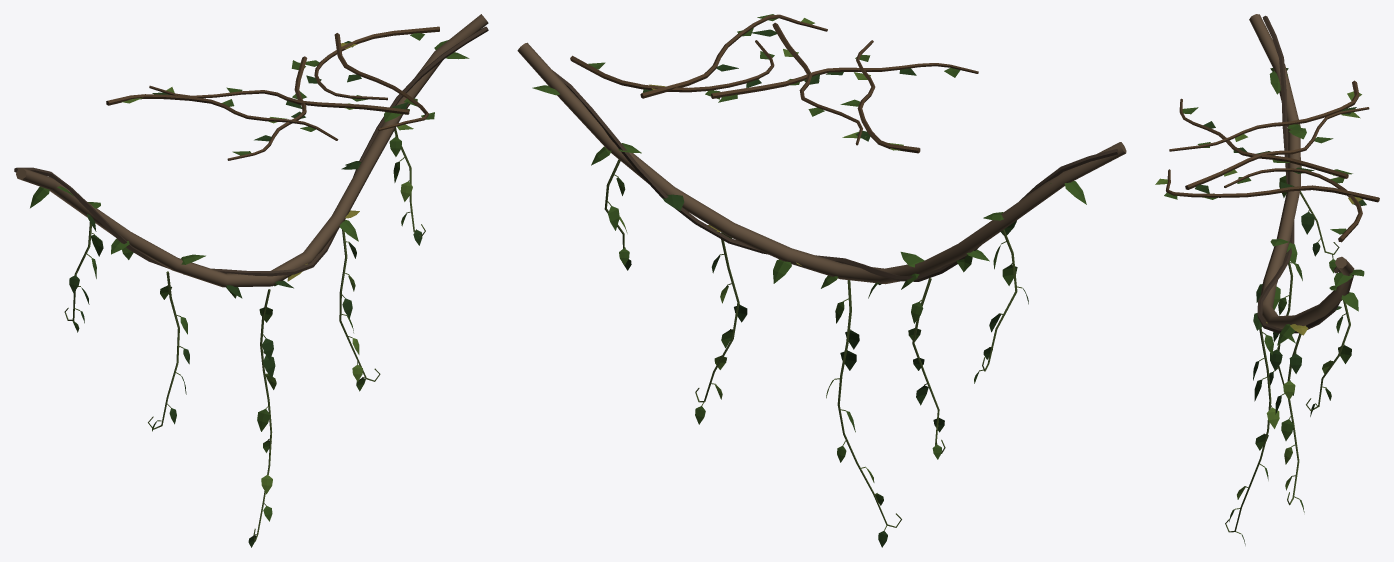
Rendered from vines_ceiling@2.glb.
3 views of the same model, side by side, from view 1: azimuth 30°, elevation 25°; view 2: azimuth 150°, elevation 25°; view 3: azimuth 270°, elevation 25° (orthographic). The views are drawn at different scales.
Visible parts, largest first — view 1: teil5, teil0, teil1, teil6, teil7, teil2, teil3; view 2: teil5, teil0, teil1, teil6, teil7, teil2; view 3: teil5, teil0, teil1, teil7, teil6, teil2, teil3.
Boxes of the visible parts, <box> form: teil5: <box>16,14,488,287</box>; teil0: <box>106,26,439,160</box>; teil1: <box>30,33,469,521</box>; teil6: <box>14,26,488,276</box>; teil7: <box>64,128,425,541</box>; teil2: <box>69,41,422,547</box>; teil3: <box>122,87,413,494</box>; teil5: <box>517,42,1126,284</box>; teil0: <box>570,14,978,153</box>; teil1: <box>532,14,1086,505</box>; teil6: <box>552,70,1118,281</box>; teil7: <box>604,159,1022,530</box>; teil2: <box>623,29,1028,547</box>; teil5: <box>1249,14,1354,328</box>; teil0: <box>1166,80,1379,242</box>; teil1: <box>1164,68,1364,521</box>; teil7: <box>1225,191,1350,533</box>; teil6: <box>1257,15,1341,333</box>; teil2: <box>1195,107,1366,545</box>; teil3: <box>1155,91,1361,499</box>.
Bounding box in the file's own units: 1.72 × 1.38 × 0.6591.
